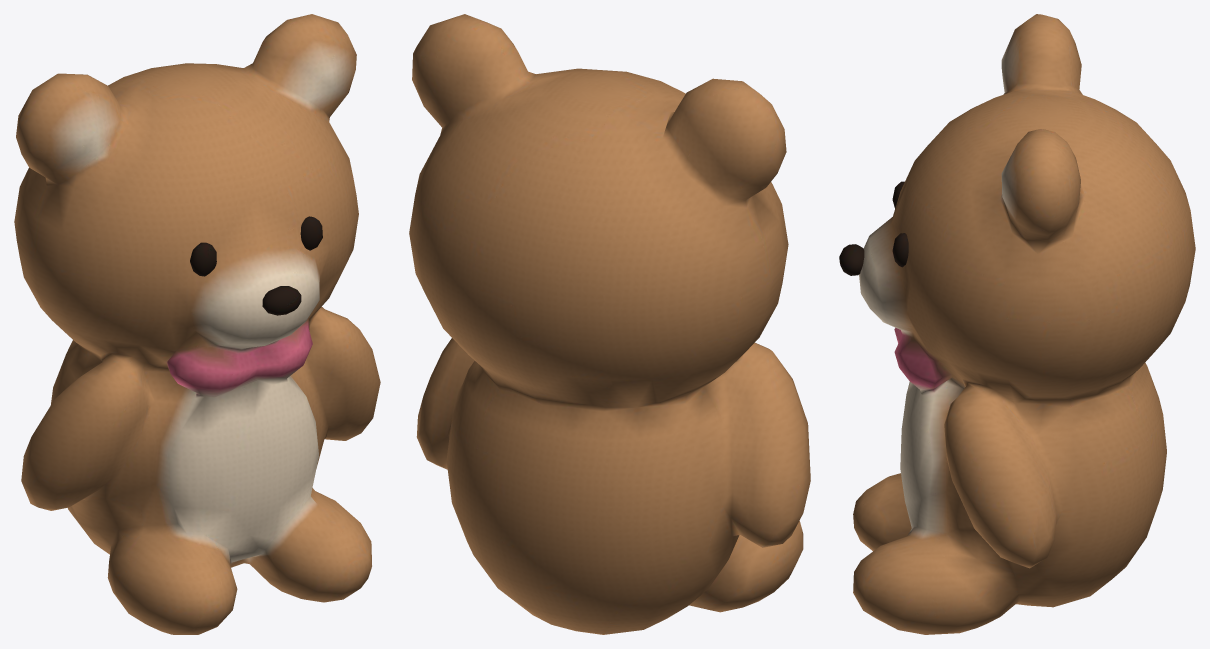
Rendered from keepsake-sale-bear.glb.
The picture shows the model from 3 angles, left to right: view 1: azimuth 30°, elevation 25°; view 2: azimuth 150°, elevation 25°; view 3: azimuth 270°, elevation 25°; orthographic projection. The views are drawn at different scales.
Visible parts, largest first — view 1: keepsake-sale-bear; view 2: keepsake-sale-bear; view 3: keepsake-sale-bear.
Boxes of the visible parts, x1,y1,x2,y2 form: keepsake-sale-bear: (14,14,380,634); keepsake-sale-bear: (409,14,810,634); keepsake-sale-bear: (839,14,1195,634).
Size of the model in its own units: 0.1033 by 0.15 by 0.0935.
1 material, 1 textured.
